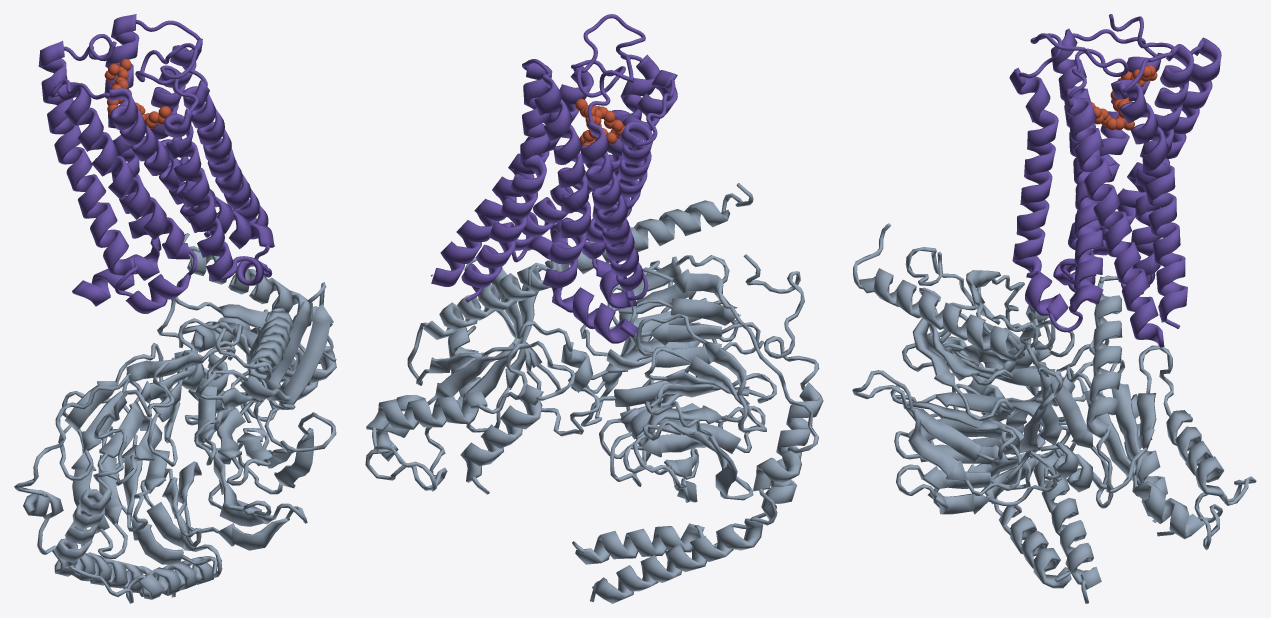
File: cb1-amg315-8ghv.glb
The picture shows the model from 3 angles, left to right: view 1: azimuth 30°, elevation 25°; view 2: azimuth 150°, elevation 25°; view 3: azimuth 270°, elevation 25°; orthographic projection.
Visible parts, largest first — view 1: gprotein, receptor, ligand; view 2: gprotein, receptor, ligand; view 3: gprotein, receptor, ligand.
Boxes of the visible parts, bbox=[...] form: gprotein: bbox=[14, 233, 336, 603]; receptor: bbox=[38, 14, 274, 313]; ligand: bbox=[104, 59, 171, 128]; gprotein: bbox=[365, 183, 823, 603]; receptor: bbox=[430, 14, 677, 343]; ligand: bbox=[575, 98, 624, 145]; gprotein: bbox=[852, 223, 1256, 603]; receptor: bbox=[1009, 14, 1221, 347]; ligand: bbox=[1091, 65, 1157, 130].
Size of the model in its own units: 7.99 by 11.92 by 7.65.
